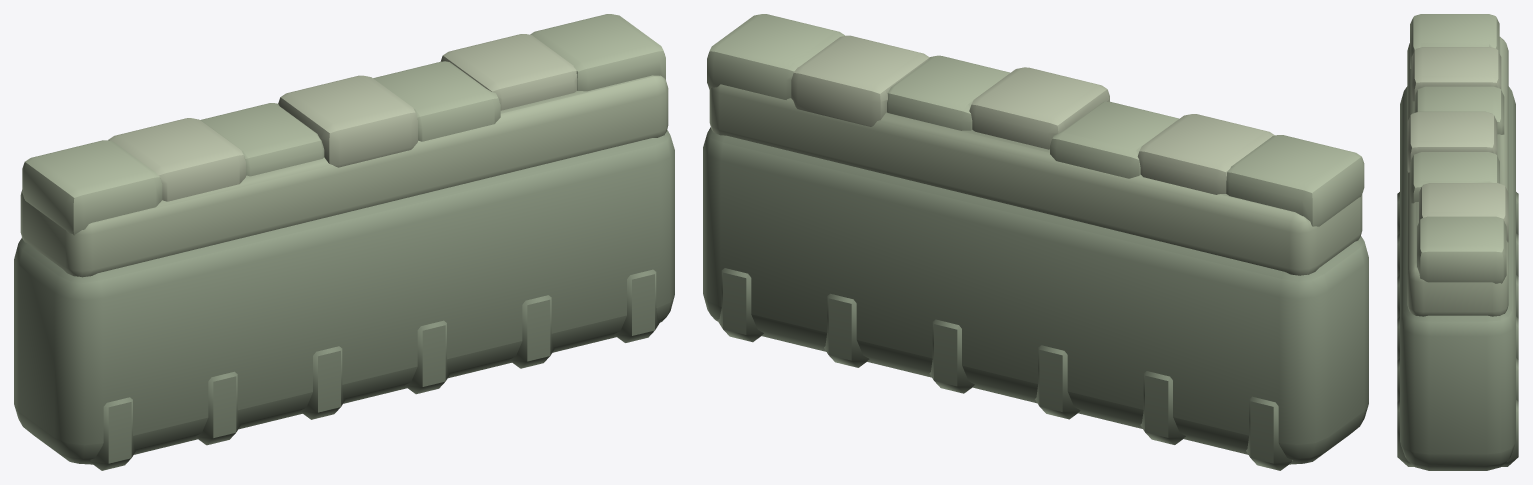
The model's file is hedge.glb.
The picture shows the model from 3 angles, left to right: view 1: azimuth 30°, elevation 25°; view 2: azimuth 150°, elevation 25°; view 3: azimuth 270°, elevation 25°; orthographic projection. The views are drawn at different scales.
Parts seen in each view (by area): view 1: hedge.001; view 2: hedge.001; view 3: hedge.001.
Boxes of the visible parts, box(x1,y1,x2,y2) form: hedge.001: box(14, 14, 674, 470); hedge.001: box(703, 14, 1368, 470); hedge.001: box(1397, 14, 1518, 470).
Size of the model in its own units: 4 by 1.77 by 0.84.
